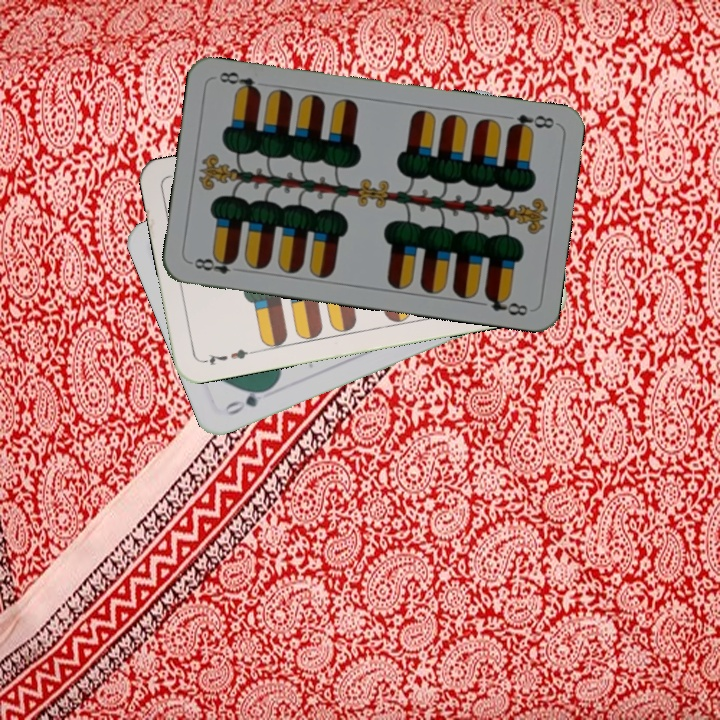E7: (198, 344, 257, 368)
E8: (504, 110, 557, 135), (187, 252, 239, 277)
GO: (219, 383, 274, 418)
